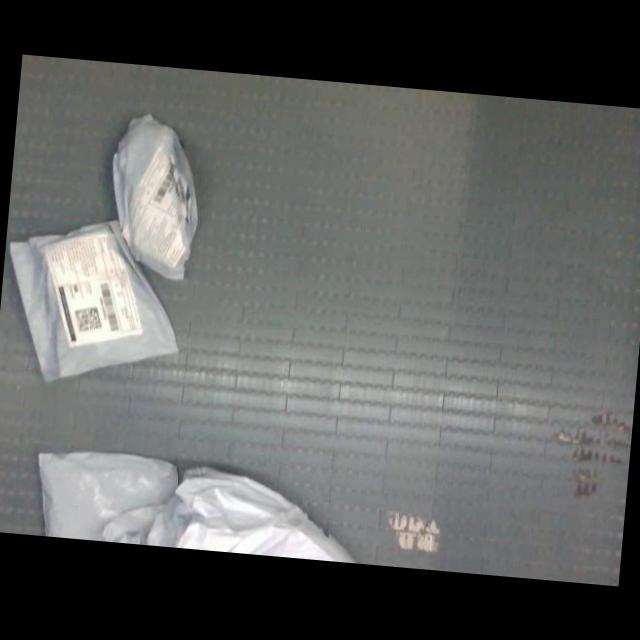mailer: (9, 220, 178, 382), (113, 114, 197, 278), (38, 454, 176, 542)
